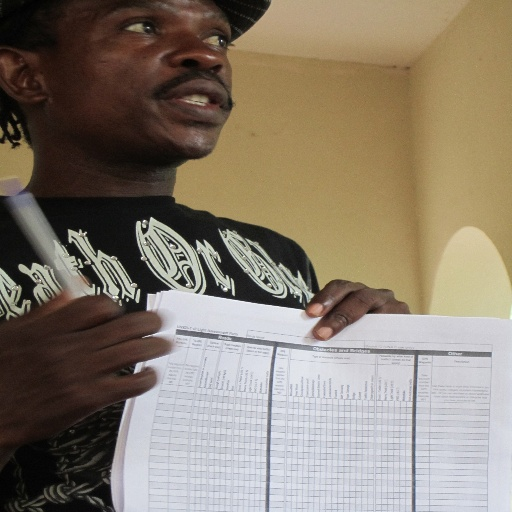hand: (11, 294, 176, 433), (303, 277, 412, 342)
